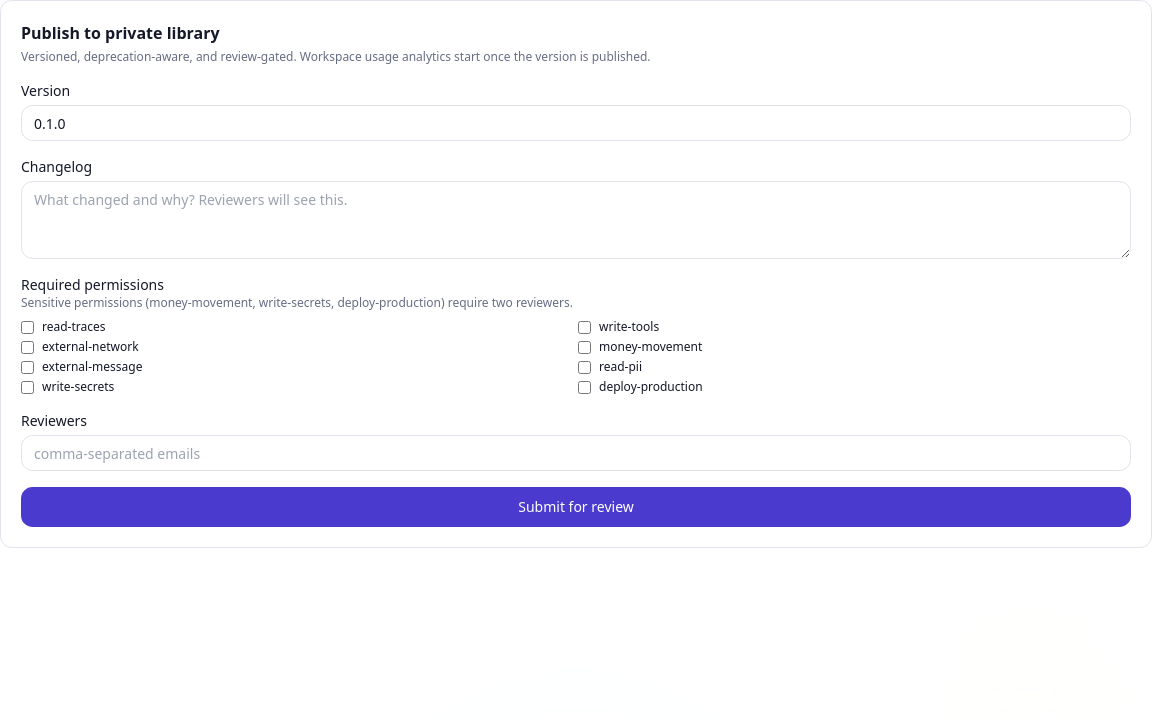
Scenario: PrivateSkillPublisher › requires two reviewers when sensitive permissions are checked
Replace the text in the field with test id "publisher-version" with "1.0.0": (576, 123) x1=21 y1=105 x2=1131 y2=141
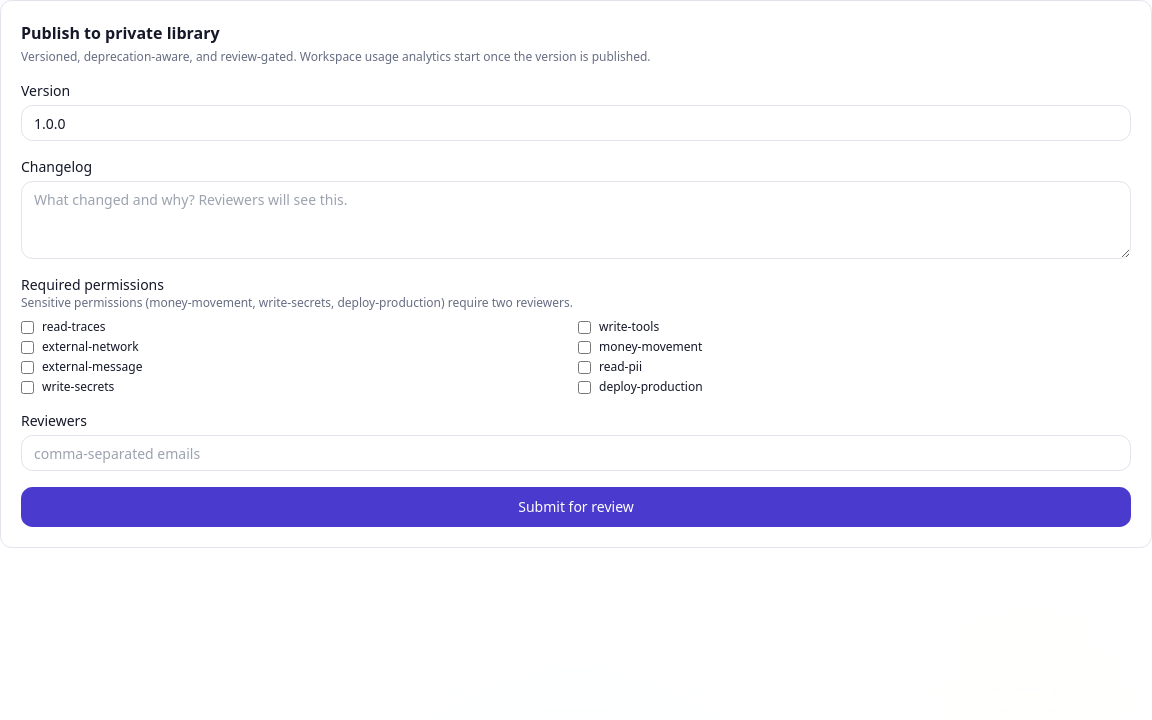
In the text box with test id "publisher-changelog": (576, 220) x1=21 y1=181 x2=1131 y2=259, type "Add money-movement support to the legacy connector."
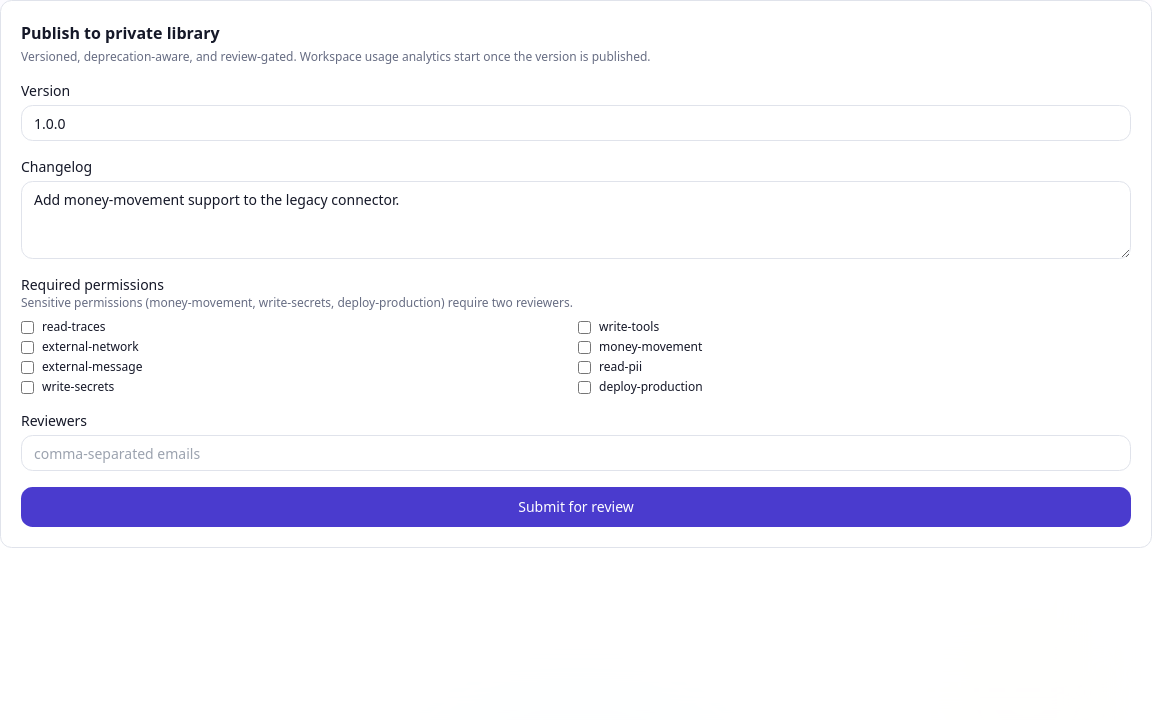
Click the checkbox with test id "publisher-permission-money-movement": (584, 347) x1=578 y1=340 x2=591 y2=354
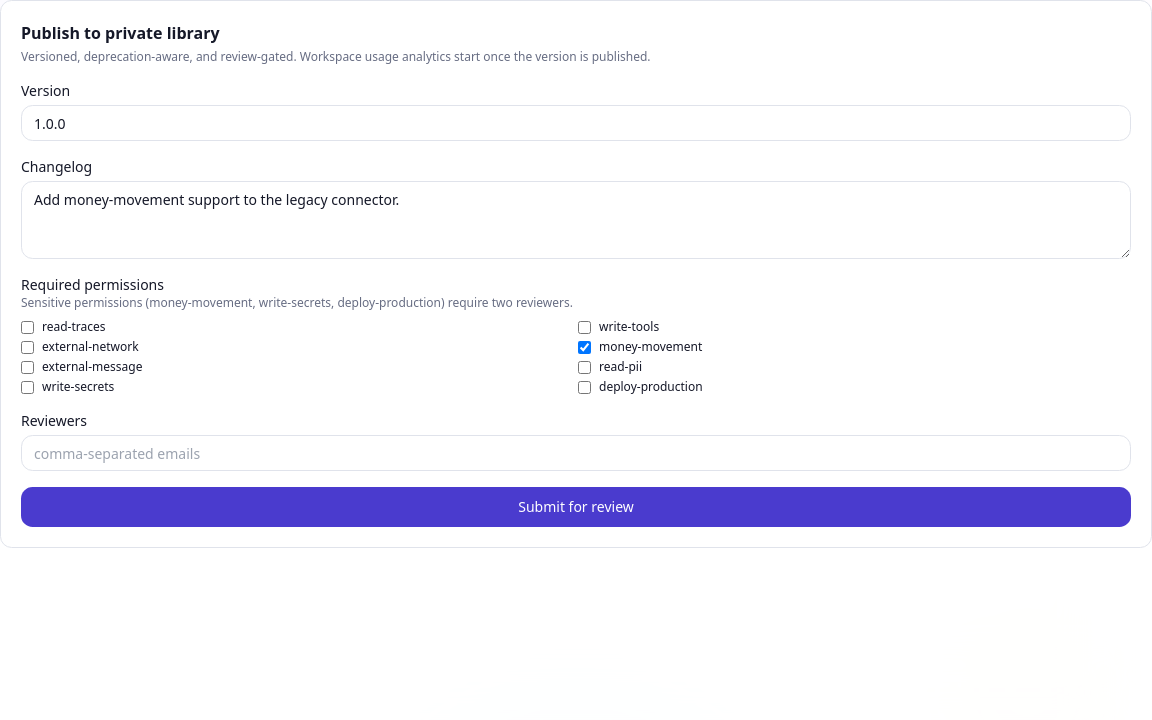
In the field with test id "publisher-reviewers": (576, 453) x1=21 y1=435 x2=1131 y2=471, type "lead@a"
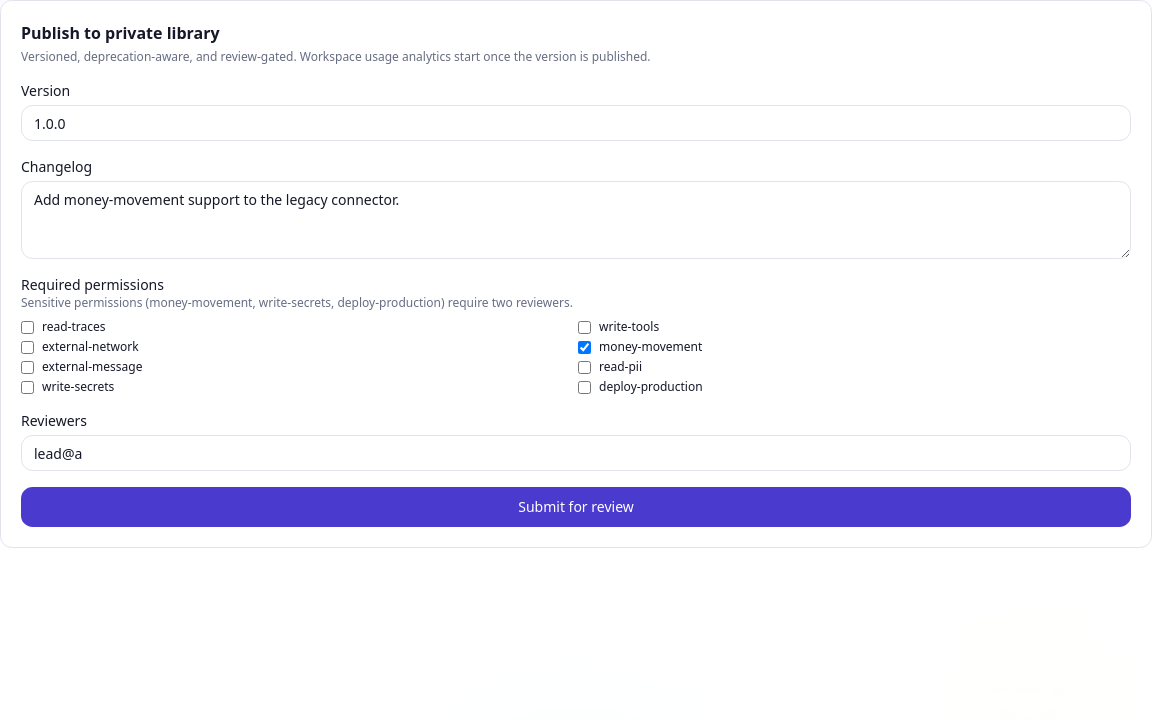
Click the button with test id "publisher-submit": (576, 507) x1=21 y1=487 x2=1131 y2=527
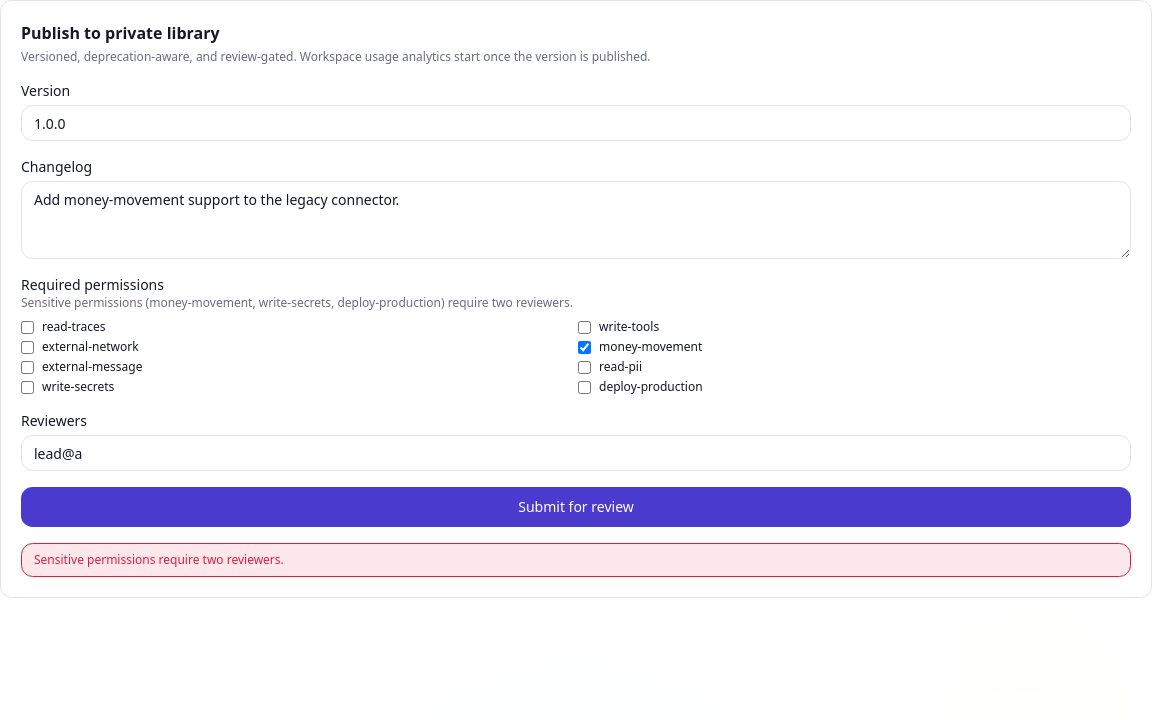
expect the message with test id "publisher-result" shows "two reviewers": met, box x1=34 y1=551 x2=284 y2=568
